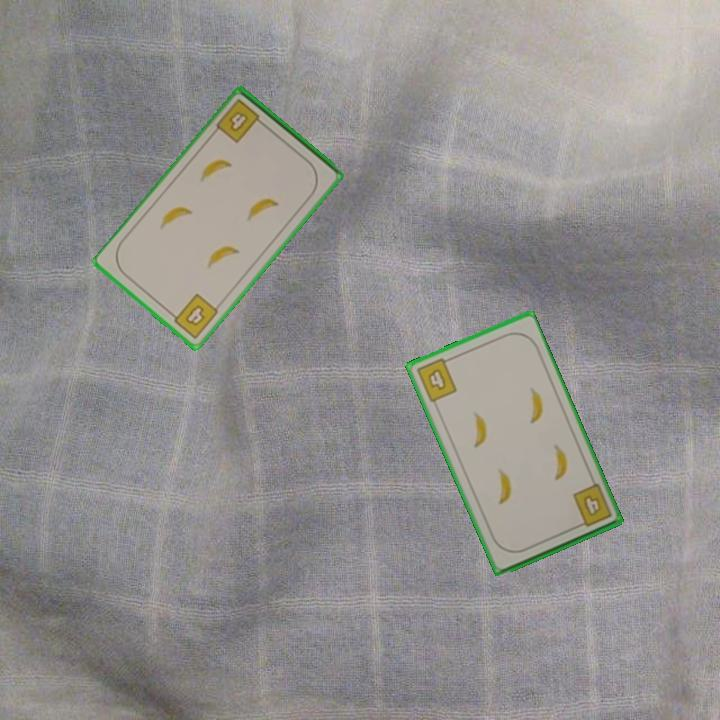4b: (166, 290, 221, 342), (212, 95, 268, 146), (412, 354, 460, 405), (569, 480, 615, 531)
